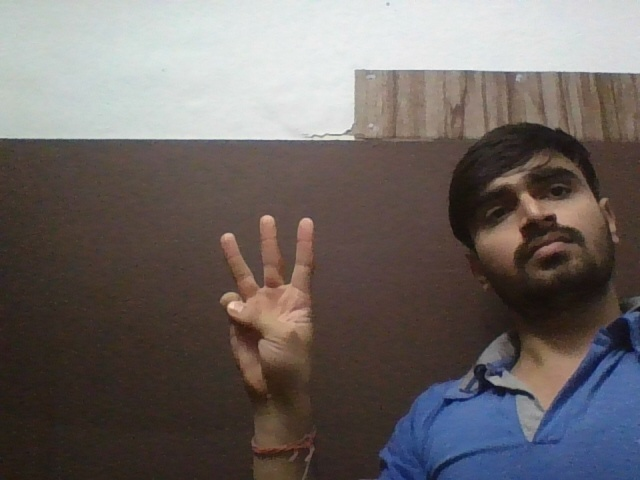W: (216, 211, 338, 405)
